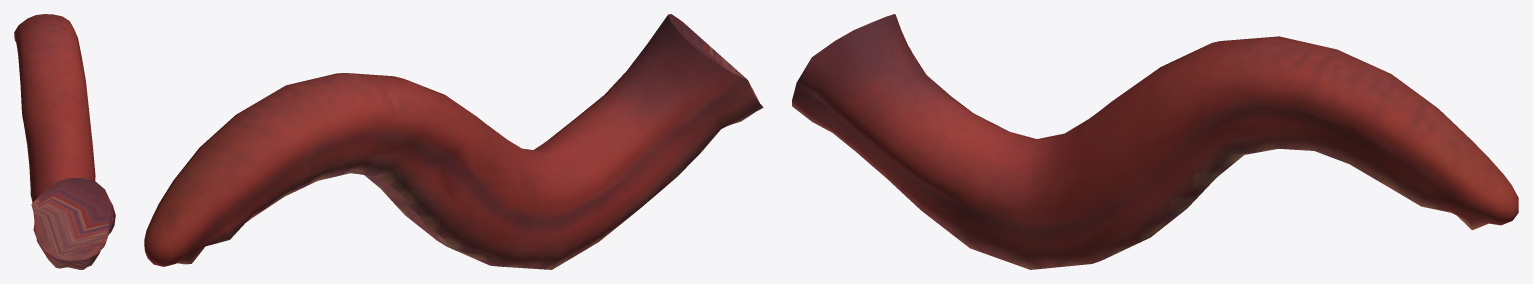
File: tentaculo5.obj
The picture shows the model from 3 angles, left to right: view 1: azimuth 30°, elevation 25°; view 2: azimuth 150°, elevation 25°; view 3: azimuth 270°, elevation 25°; orthographic projection. The views are drawn at different scales.
Parts seen in each view (by area): view 1: tentacle5; view 2: tentacle5; view 3: tentacle5.
Boxes of the visible parts, x1,y1,x2,y2 form: tentacle5: (14,14,115,269); tentacle5: (144,14,763,269); tentacle5: (792,14,1518,269).
Size of the model in its own units: 236 by 172 by 436.
Materials: 2 (2 with a texture image).
